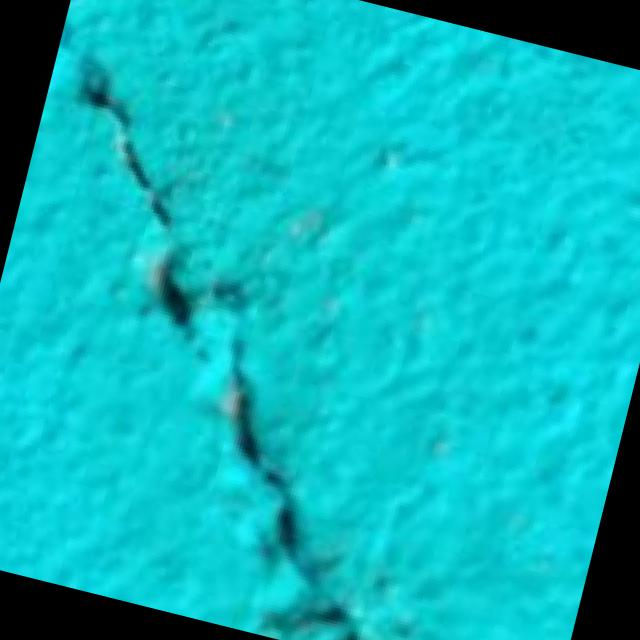crack: (0, 10, 511, 640)
